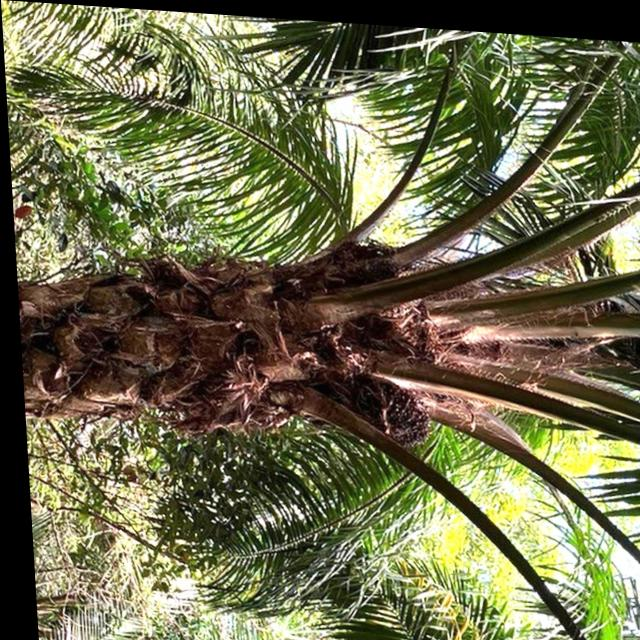ripe: (337, 363, 432, 446)
